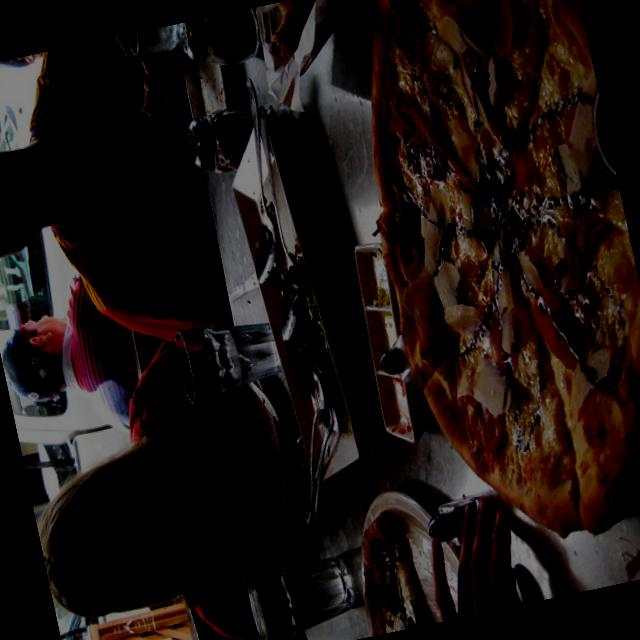Vehicle: (56, 607, 119, 640)
